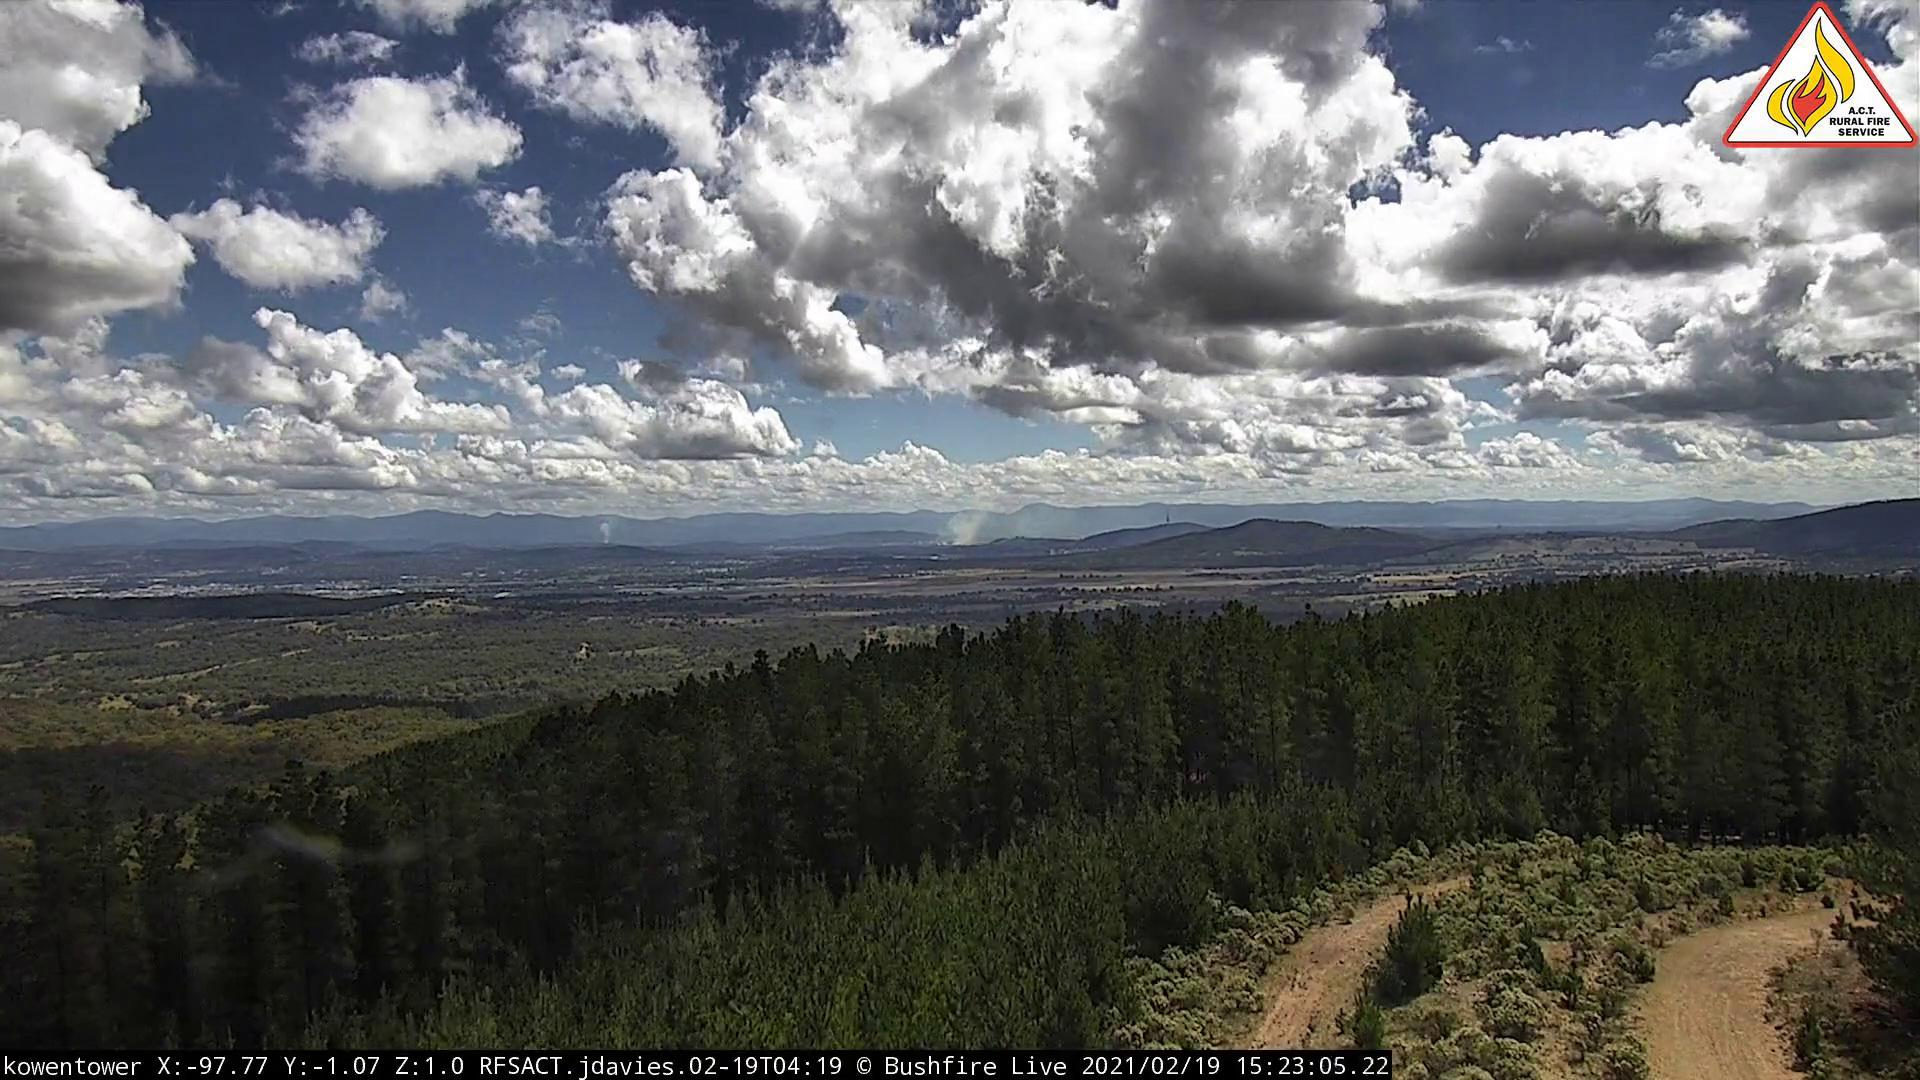instance_salient_object: (938, 506, 993, 553), (593, 516, 618, 551)
